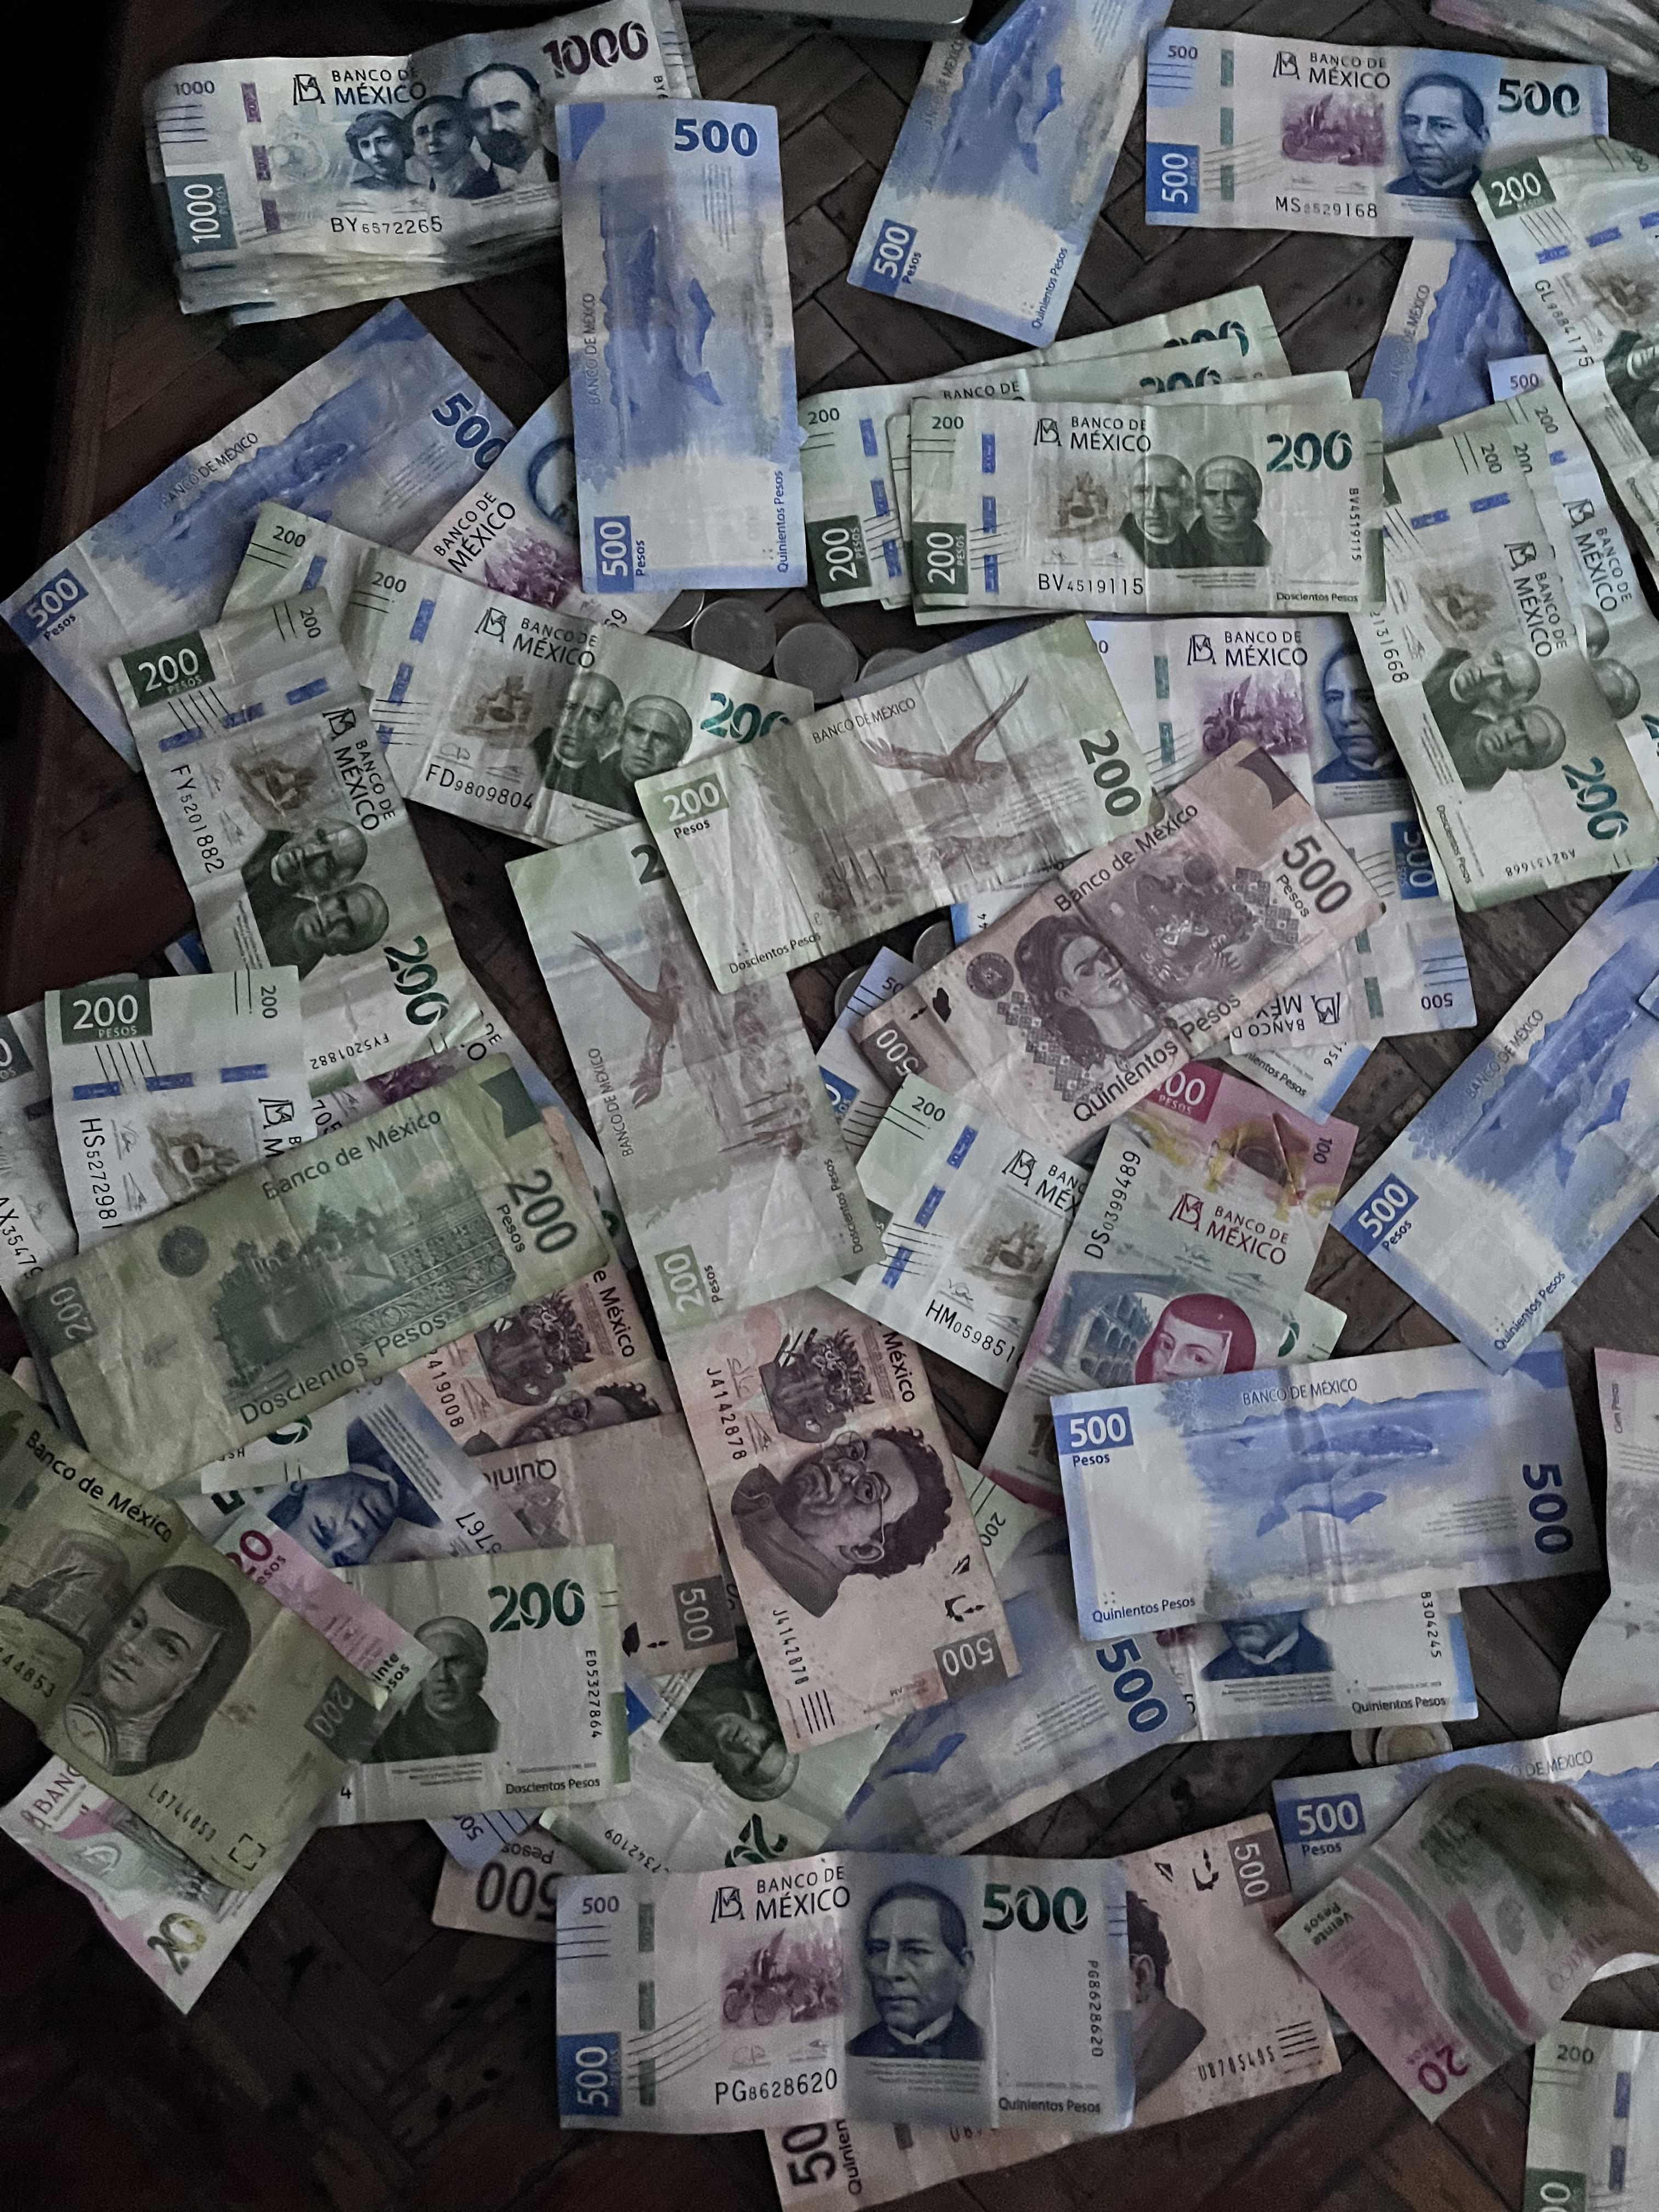1000: (183, 0, 676, 301)
200: (14, 1061, 615, 1456), (239, 498, 826, 864), (493, 819, 901, 1331), (0, 1372, 389, 1869), (108, 583, 486, 1076), (38, 939, 369, 1491), (641, 631, 1147, 970), (1354, 420, 1652, 904), (173, 1543, 647, 1820), (906, 399, 1391, 625), (1480, 138, 1659, 620), (875, 1078, 1075, 1350), (647, 1677, 840, 1858), (807, 380, 931, 601)
500: (854, 737, 1375, 1195), (643, 1284, 1040, 1747), (1096, 1806, 1333, 2139), (511, 1421, 742, 1663)
500 nuevo: (12, 298, 552, 716), (535, 1839, 1131, 2127), (1345, 878, 1659, 1352), (544, 94, 807, 603), (1047, 1362, 1596, 1602), (1136, 21, 1603, 240), (882, 0, 1150, 341), (890, 1606, 1199, 1836), (1131, 1609, 1485, 1738), (260, 1421, 516, 1566), (1370, 244, 1551, 448), (1267, 1761, 1471, 1876)
